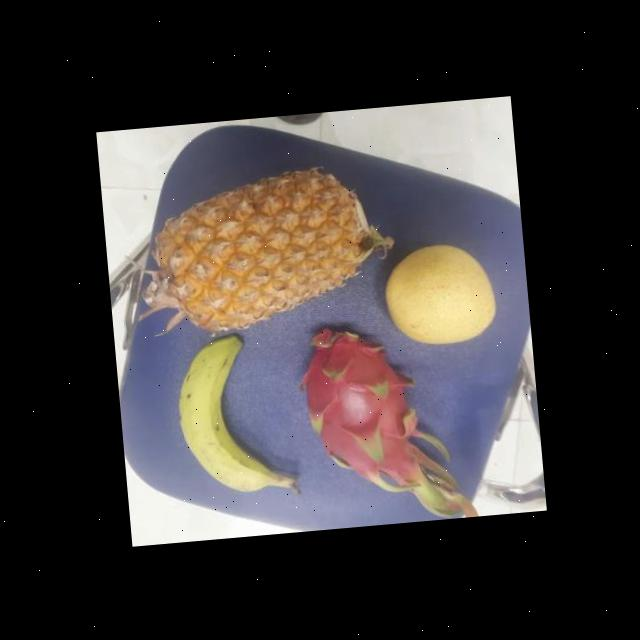banana: (170, 331, 292, 497)
pear: (372, 240, 500, 348)
pineapple: (138, 168, 382, 340)
pitaya: (288, 319, 434, 485)
